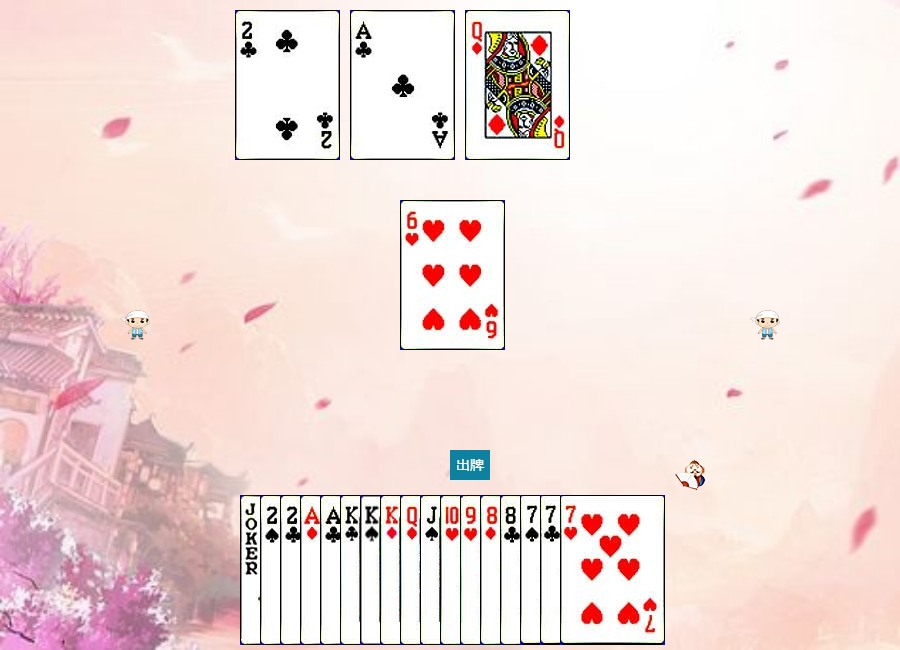10~3: (440, 495, 545, 645)
11~4: (420, 495, 525, 645)
12~1: (465, 10, 570, 160), (400, 495, 505, 645)
13~1: (380, 495, 485, 645)
13~2: (340, 495, 445, 645)
13~4: (360, 495, 465, 645)
14~1: (300, 495, 405, 645)
14~2: (350, 10, 455, 160), (320, 495, 425, 645)
15~2: (235, 10, 340, 160), (280, 495, 385, 645)
15~4: (260, 495, 365, 645)
17~3: (240, 495, 345, 645)
6~3: (400, 200, 505, 350)
7~2: (540, 495, 645, 645)
7~3: (560, 495, 665, 645)
7~4: (520, 495, 625, 645)
8~1: (480, 495, 585, 645)
8~2: (500, 495, 605, 645)
9~3: (460, 495, 565, 645)
